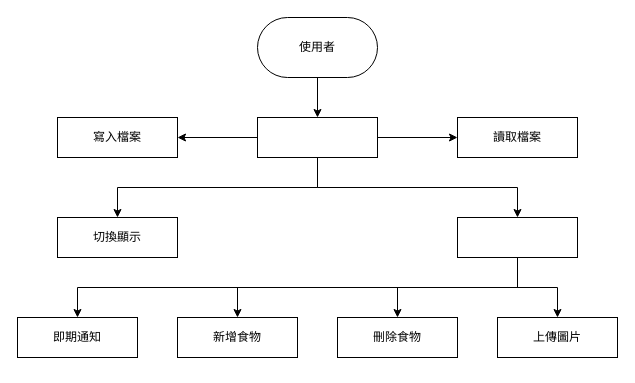
This 635x383 diagram has some shape labels left out. Each missing label, with the centre of its shape:
GUI: the point at 317,137
RecordSystem: the point at 517,237
